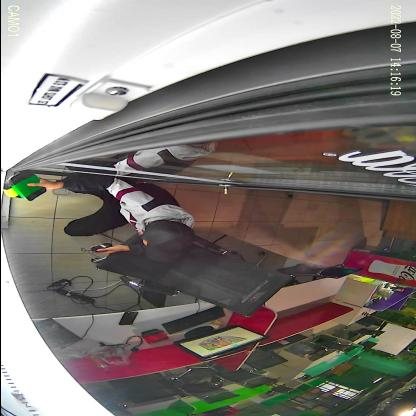green: (6, 168, 46, 203)
yellow: (3, 177, 24, 199)
